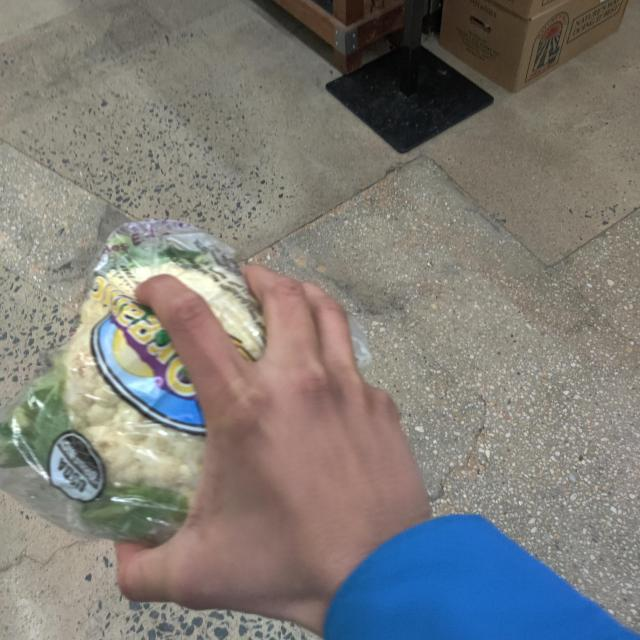Cauliflower: (6, 231, 267, 544)
